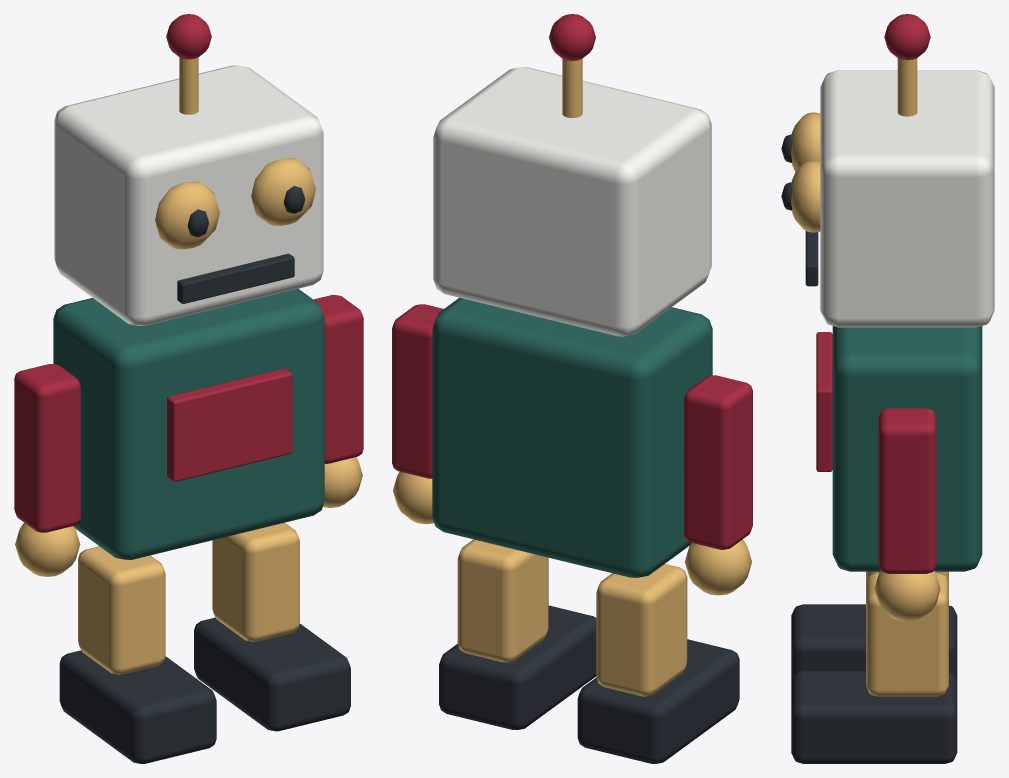
Rendered from christmas-storybook-wind-up-robot-2621439d.glb.
3 renders of one model, left to right at view 1: azimuth 30°, elevation 25°; view 2: azimuth 150°, elevation 25°; view 3: azimuth 270°, elevation 25°, orthographic. The views are drawn at different scales.
Visible parts, largest first — view 1: cream, pine, brass, berry, ink; view 2: pine, cream, brass, ink, berry; view 3: cream, pine, ink, brass, berry.
Part boxes in pixels (bbox=[...]): cream: bbox=[54, 65, 323, 325]; pine: bbox=[53, 288, 324, 559]; brass: bbox=[15, 57, 362, 674]; berry: bbox=[14, 14, 363, 532]; ink: bbox=[59, 186, 350, 763]; pine: bbox=[432, 297, 712, 577]; cream: bbox=[433, 67, 711, 336]; brass: bbox=[393, 58, 751, 696]; ink: bbox=[439, 605, 739, 763]; berry: bbox=[392, 14, 752, 549]; cream: bbox=[820, 70, 994, 327]; pine: bbox=[832, 326, 982, 571]; ink: bbox=[781, 134, 957, 763]; brass: bbox=[791, 58, 948, 696]; berry: bbox=[816, 14, 936, 573].
Bounding box in the file's own units: 0.48 × 0.928 × 0.257.
